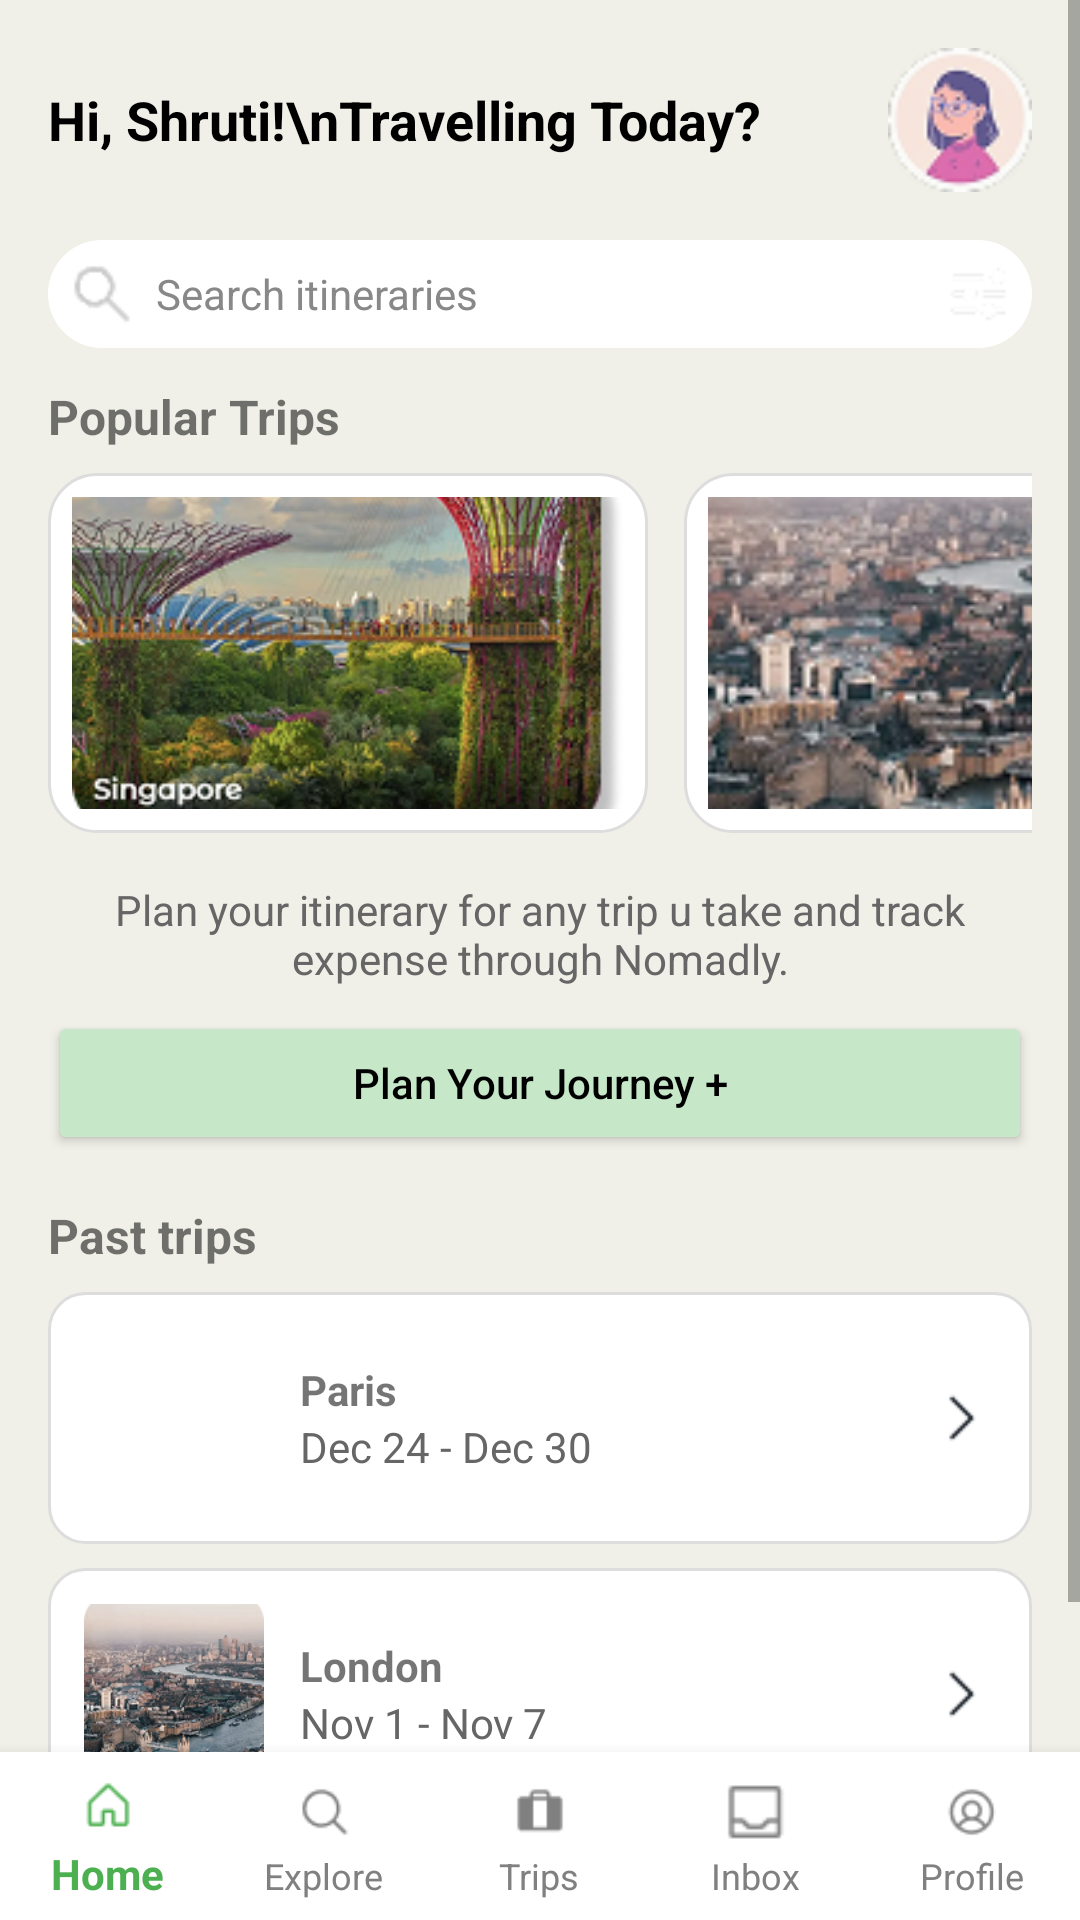

Where to tap for icons on this 1080x1920 app screen, as [x,y]:
Go to details: [961,1418], [961,1694]
Profile Picture: [960,120]
